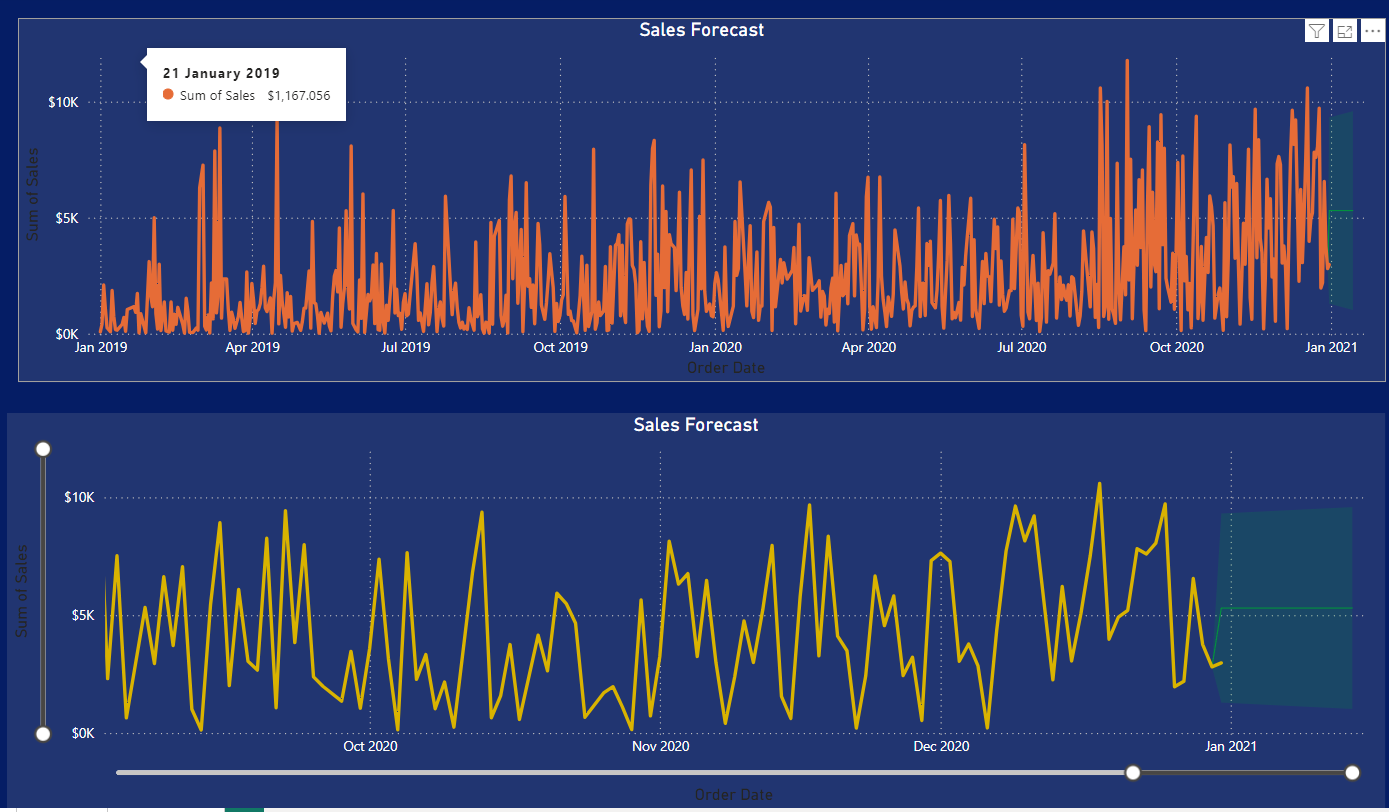

This screenshot's page, from the dashboard's own definition file:
{"tool":"powerbi","page":{"name":"Sales Forecast","canvas":[1280,720],"ordinal":2},"visuals":[{"type":"lineChart","title":"Sales Forecast","fields":{"Y":["Sum(SuperStore Sales DataSet xlsx - Sheet1.Sales)"],"Category":["SuperStore Sales DataSet xlsx - Sheet1.Order Date"]},"box":[18.6,19.7,1212.6,322.9],"z":0},{"type":"lineChart","title":"Sales Forecast","fields":{"Y":["Sum(SuperStore Sales DataSet xlsx - Sheet1.Sales)"],"Category":["SuperStore Sales DataSet xlsx - Sheet1.Order Date"]},"box":[9.3,369.4,1221.9,350.8],"z":1000}]}

Visuals, with their boxes on the page's 1280x720 design canvas (x1, y1, x2, y2). These are canvas units, not pixel positions in the 1389x812 screenshot, which may show the page scaled, cropped or inside an application window:
"Sales Forecast" lineChart: pyautogui.locateOnScreen(19, 20, 1231, 343)
"Sales Forecast" lineChart: pyautogui.locateOnScreen(9, 369, 1231, 720)
